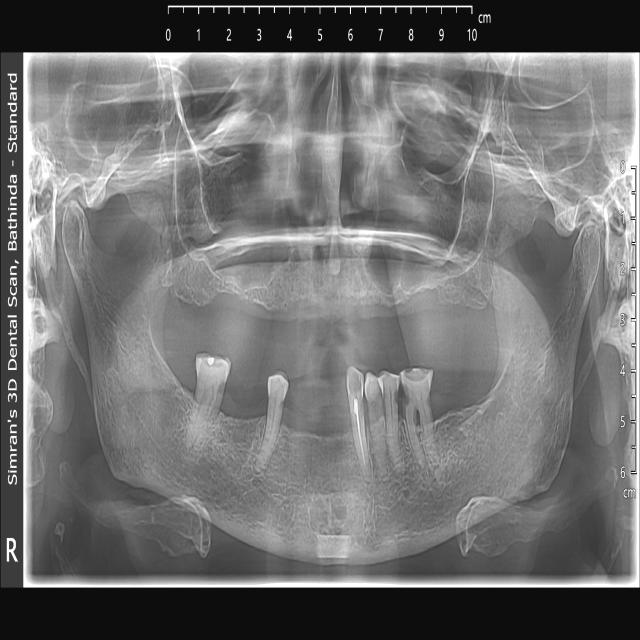Caries: (196, 355, 230, 417), (380, 370, 400, 414), (267, 370, 288, 411), (365, 372, 383, 418), (403, 384, 412, 413), (426, 380, 433, 414)
Filling: (196, 355, 229, 387)
Missing teeth: (182, 283, 470, 337), (430, 364, 491, 428), (281, 397, 351, 446), (215, 390, 266, 438), (155, 352, 195, 404)
Root Canal Treatment: (349, 364, 374, 483)
